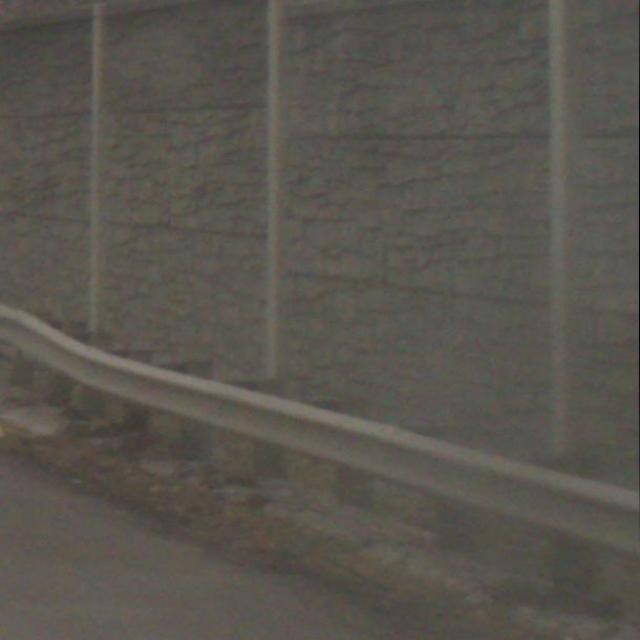Guard rail: (0, 300, 640, 606)
